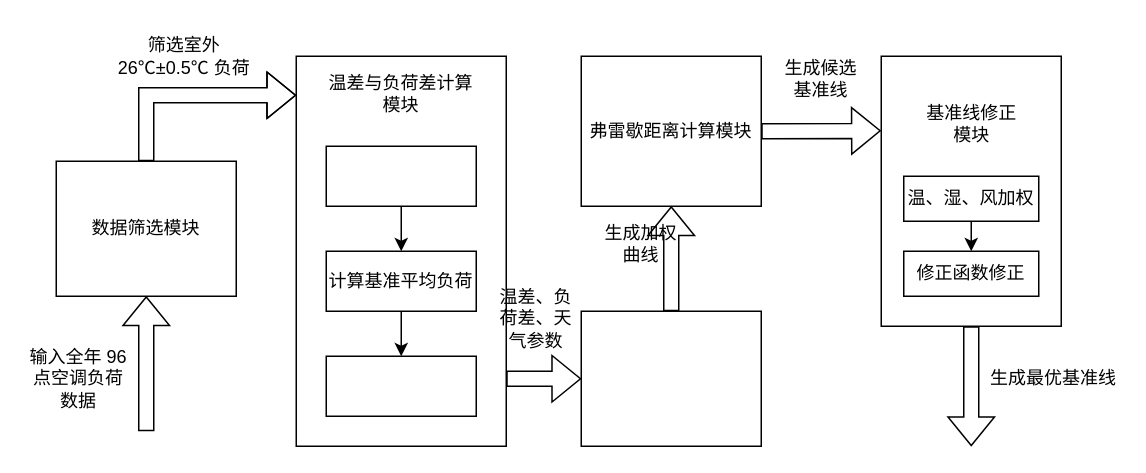
The diagram is 1146 pixels wide and 473 high, and some of its shapes have lost their labels. Each missing label, with the centre of its shape:
温差加权模块: the point at 670,378
计算温差 diff: the point at 400,175
计算负荷差: the point at 400,385
